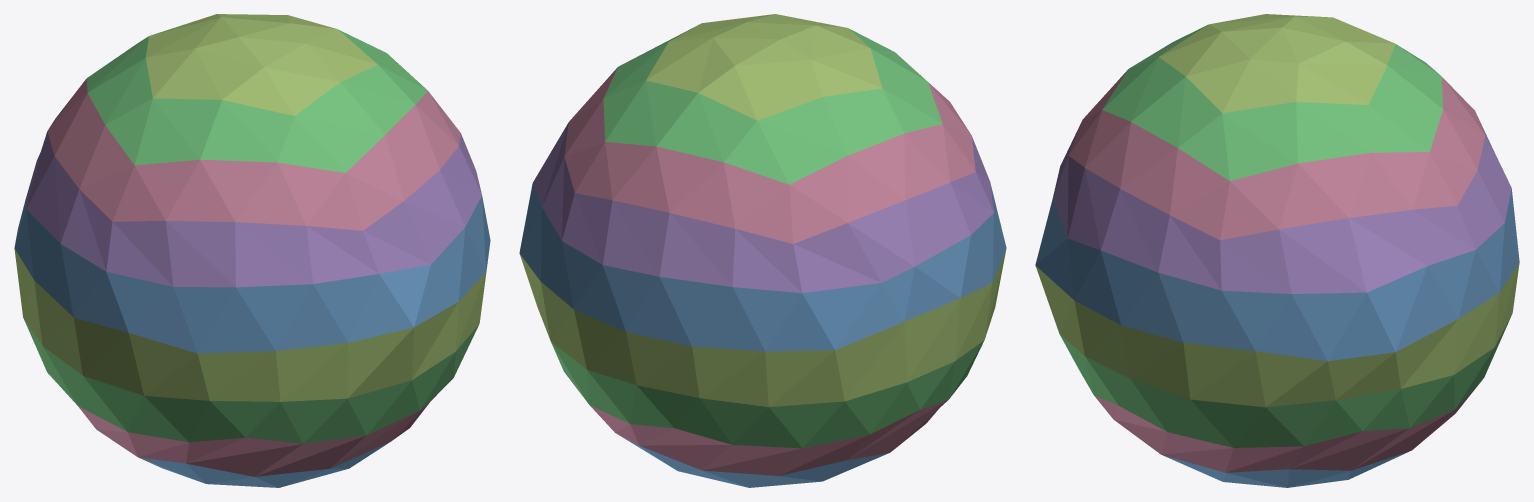
File: RainBow_Planet_Dull.fbx
3 renders of one model, left to right at view 1: azimuth 30°, elevation 25°; view 2: azimuth 150°, elevation 25°; view 3: azimuth 270°, elevation 25°, orthographic.
Visible parts, largest first — view 1: Icosphere; view 2: Icosphere; view 3: Icosphere.
Boxes of the visible parts, x1=… form: Icosphere: x1=14, y1=14, x2=490, y2=487; Icosphere: x1=519, y1=14, x2=1006, y2=487; Icosphere: x1=1035, y1=14, x2=1519, y2=487.
Size of the model in its own units: 201 by 200 by 203.
